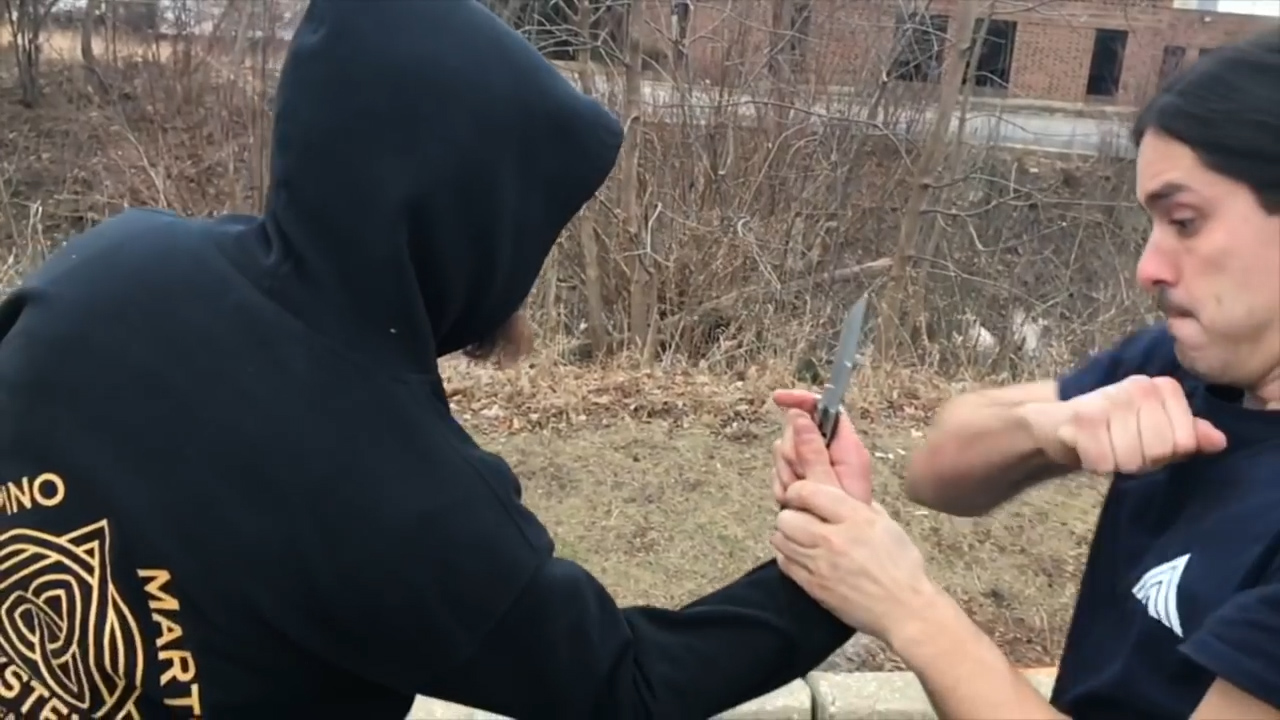knife: (762, 277, 882, 513)
